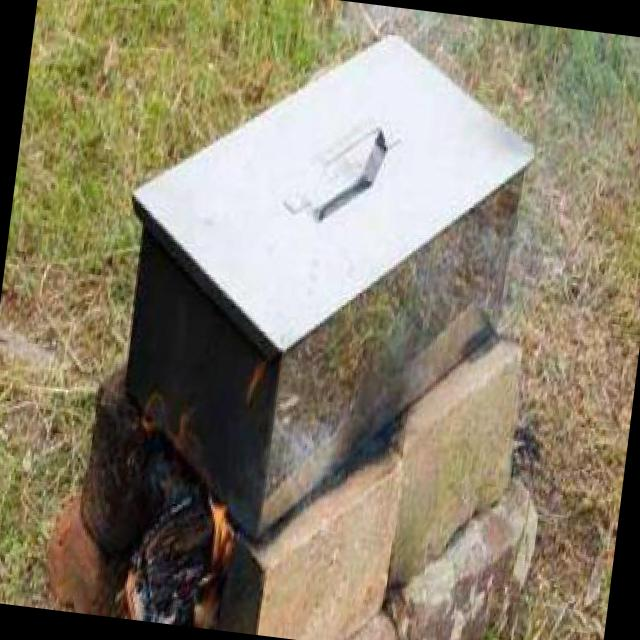Fire: (176, 476, 253, 630), (115, 380, 210, 475)
